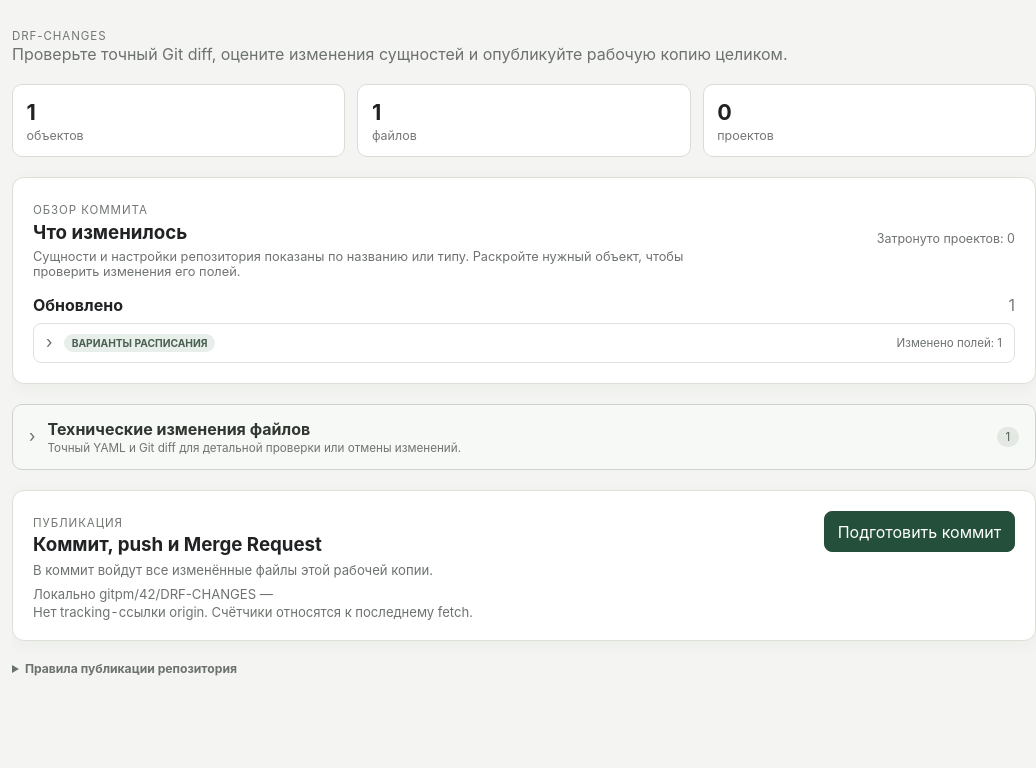
Changes workspace › shows localized field-level changes for configuration documents without IDs
Click the text "Варианты расписания". click: point(140, 343)
box: [64,334,215,352]
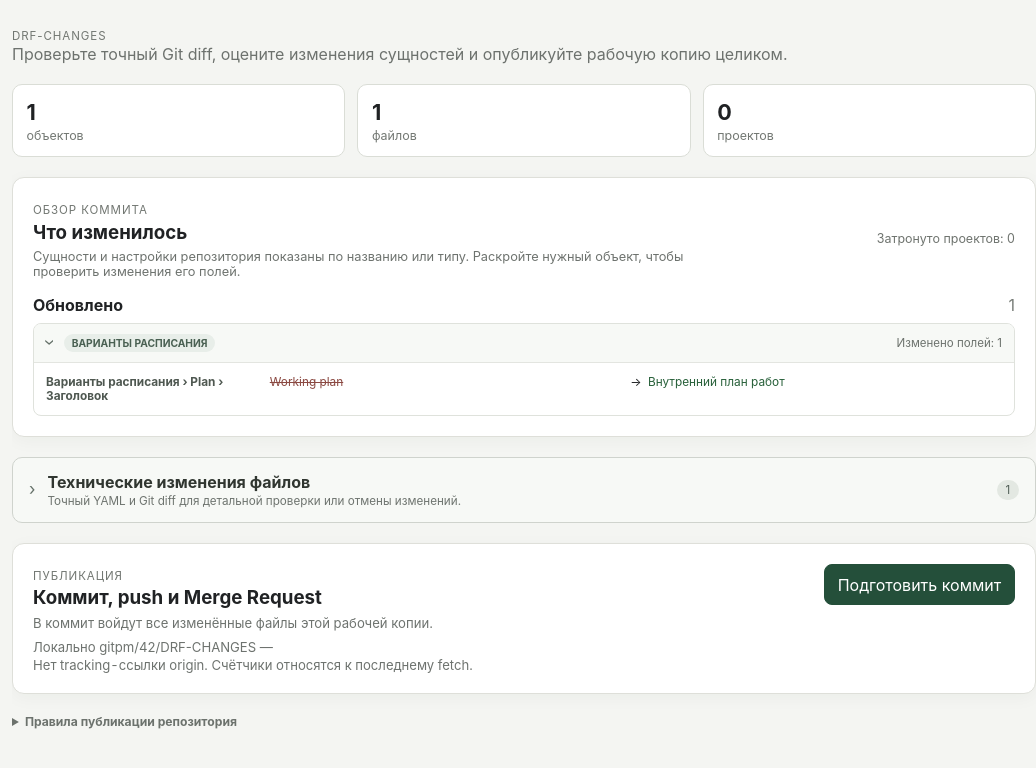
Result: the text "Working plan" is shown at [270,375,343,389]
Result: the text "Внутренний план работ" is shown at [648,375,785,389]
Result: the text "Варианты расписания › Plan › Заголовок" is shown at [46,375,223,403]
